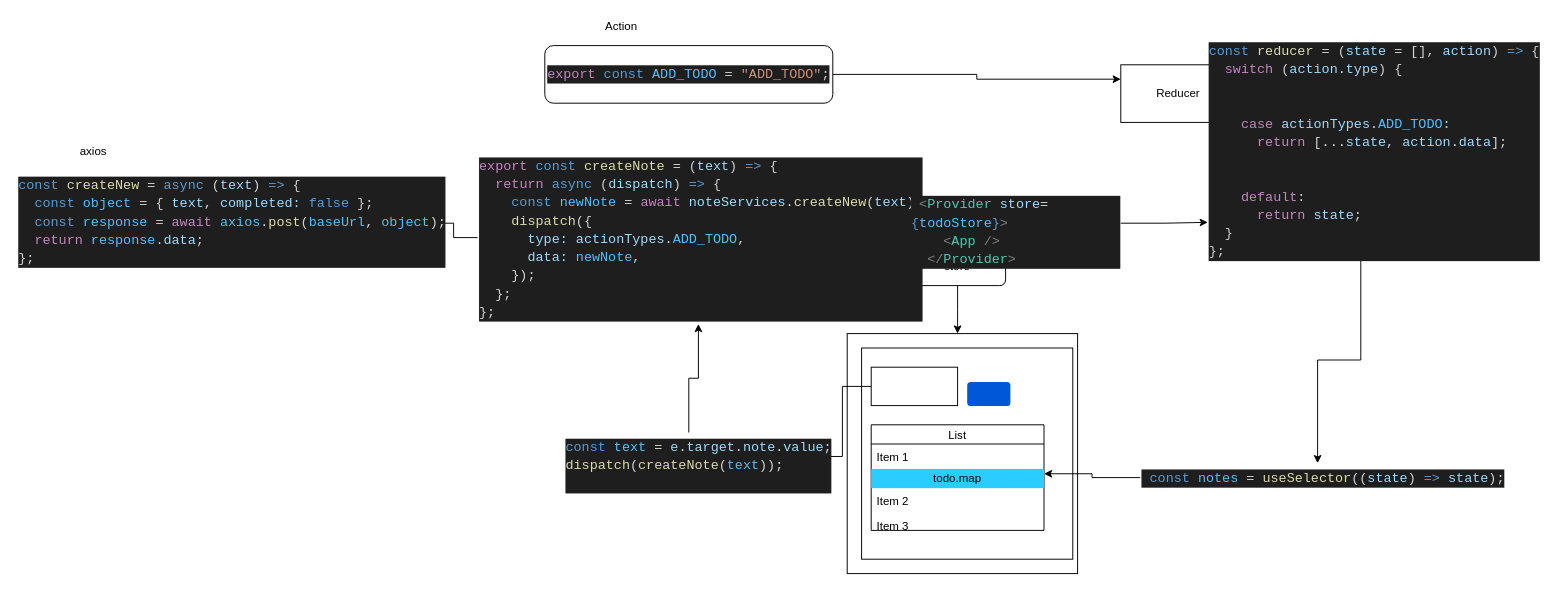
Some shapes in this 1556 by 590 pixel diagram are drawn without their labels. The box of each missing label's shape, as (x1, y1, x2, y2) in pixels:
message: (870, 366, 958, 406)
Submit: (967, 382, 1010, 406)
